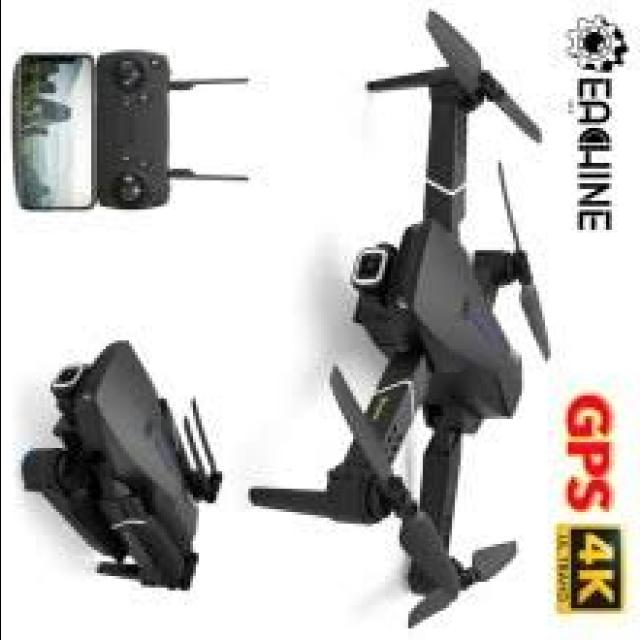drone: (244, 0, 564, 640)
